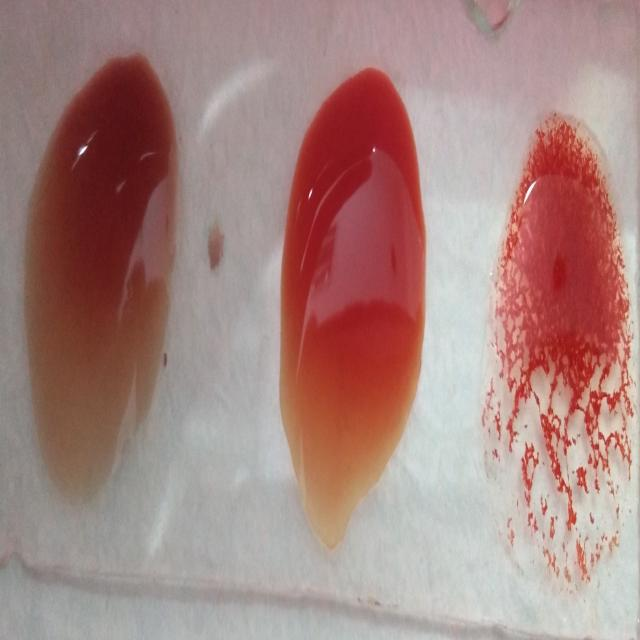D: (482, 132, 639, 590)
